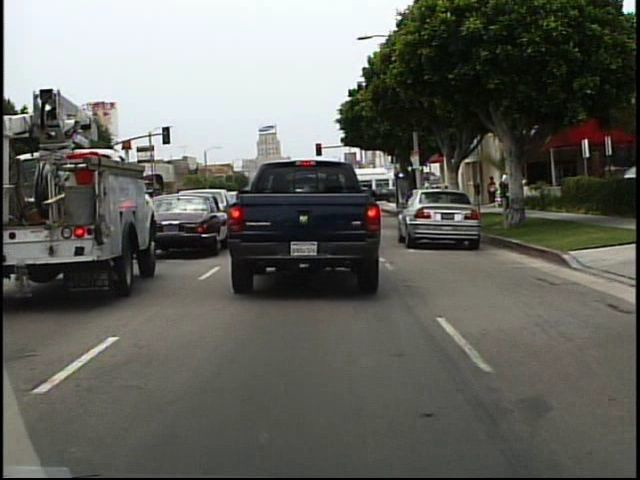person: (487, 176, 500, 207)
